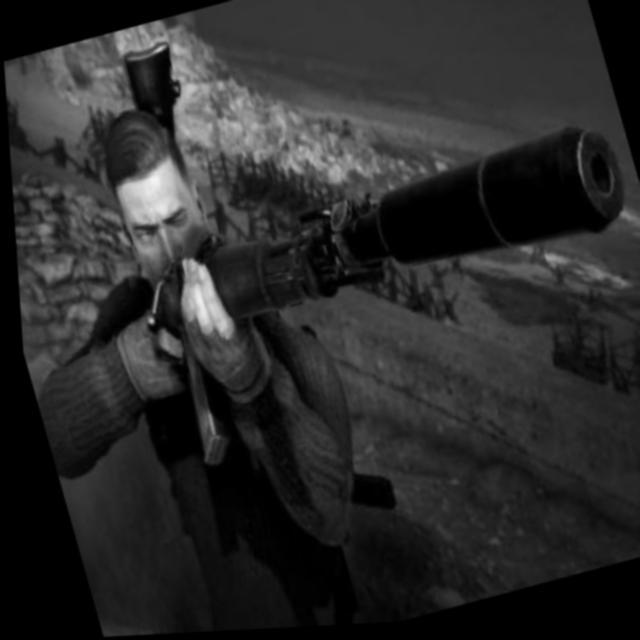weapon: (125, 118, 640, 471)
